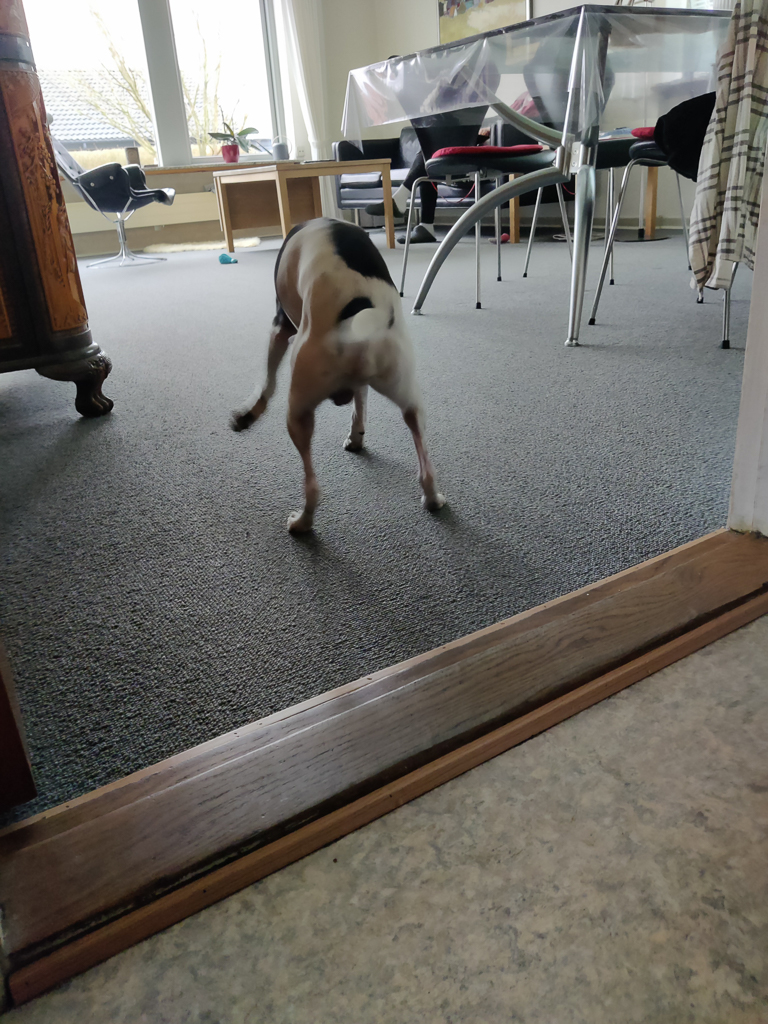Dog: (189, 189, 495, 580)
Humanoid: (360, 84, 559, 247)
